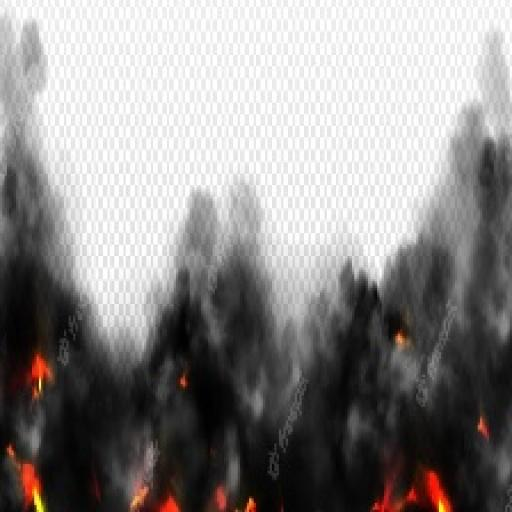fire and smoke: (0, 19, 511, 511)
